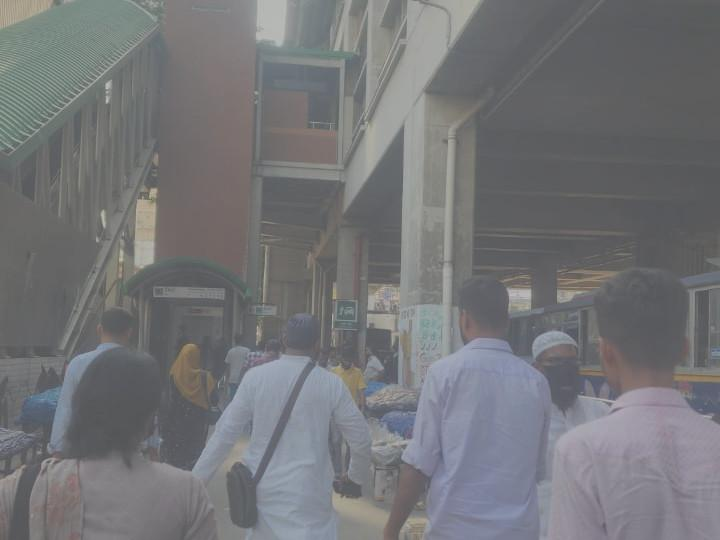Metro Dorp Up Pick up: (332, 299, 358, 330)
